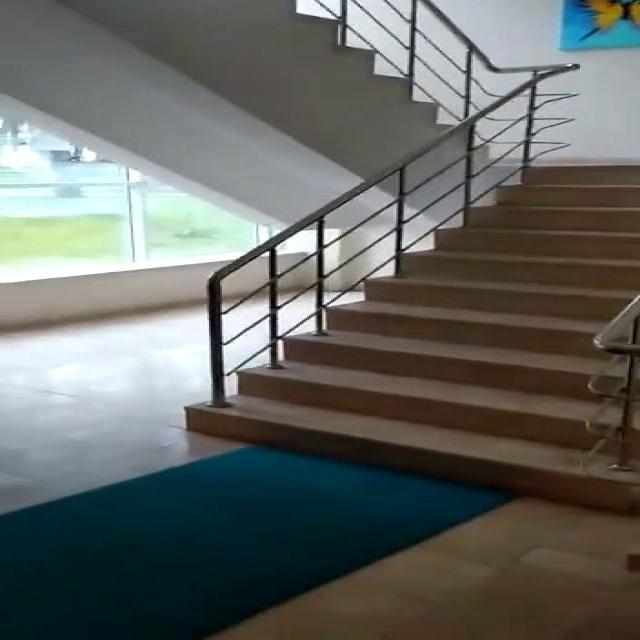stairs: (182, 162, 638, 510)
